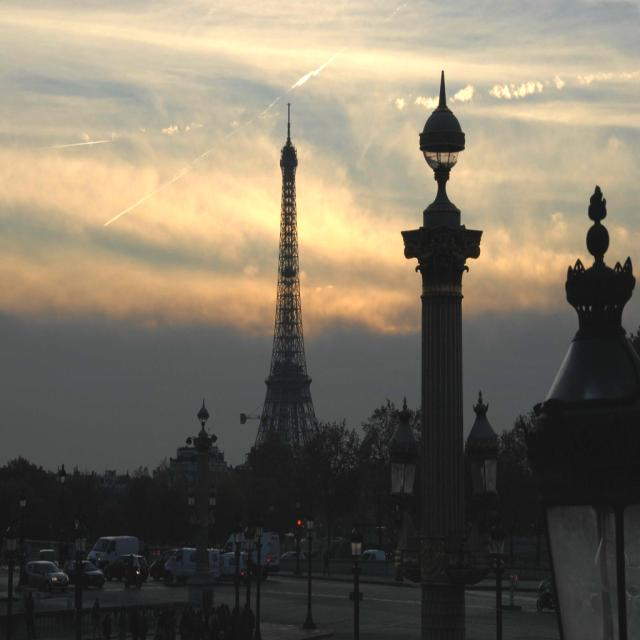Car: (24, 556, 75, 606)
